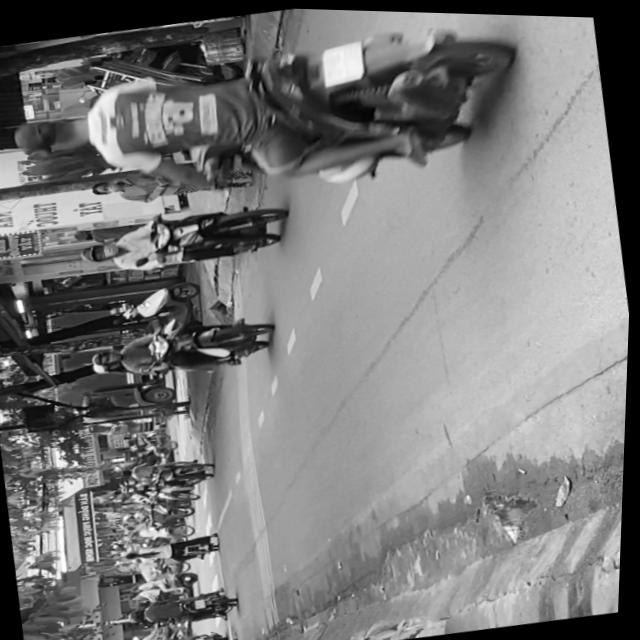helmet: (79, 239, 121, 264), (90, 347, 125, 369)
licenseplate: (0, 0, 531, 237), (74, 191, 293, 284), (86, 305, 280, 389)
motorcyclist: (9, 109, 89, 161)
nohelmet: (317, 39, 368, 86)
